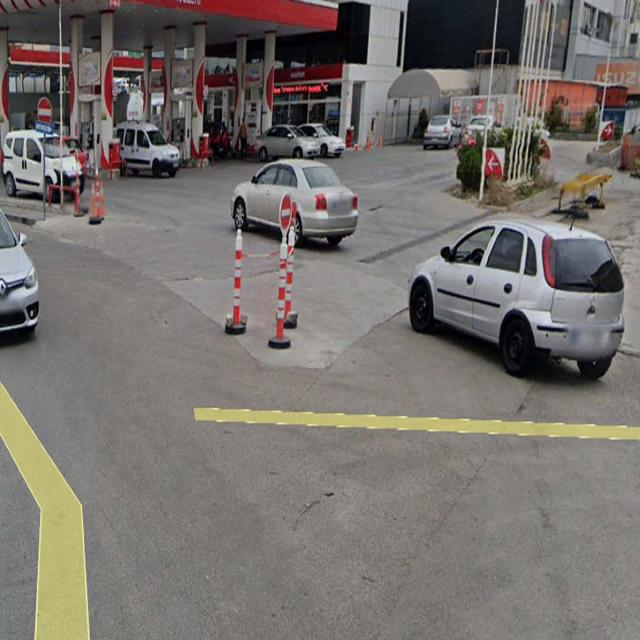girisyok: (37, 97, 52, 126)
